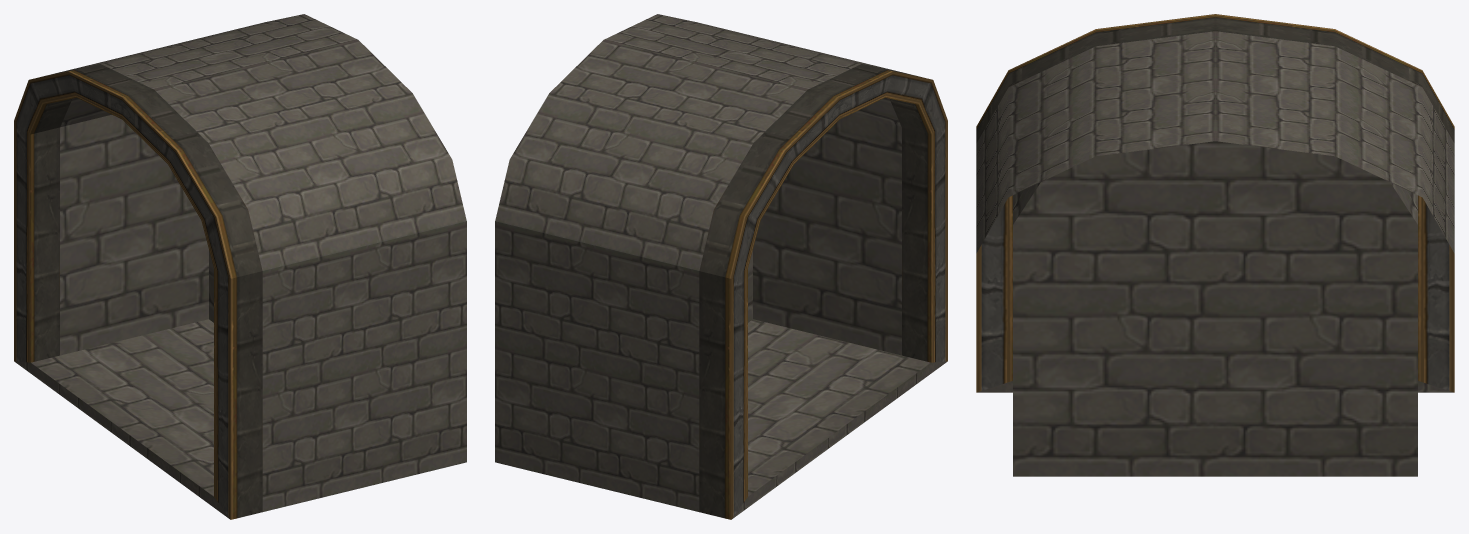
Rendered from Time limit_Other_03.FBX.
3 renders of one model, left to right at view 1: azimuth 30°, elevation 25°; view 2: azimuth 150°, elevation 25°; view 3: azimuth 270°, elevation 25°, orthographic. The views are drawn at different scales.
Parts seen in each view (by area): view 1: Time limit_Other_03; view 2: Time limit_Other_03; view 3: Time limit_Other_03.
Part boxes in pixels (box(x1,y1,x2,y2)): Time limit_Other_03: box(14, 14, 466, 519); Time limit_Other_03: box(495, 14, 947, 519); Time limit_Other_03: box(976, 14, 1454, 476).
Bounding box in the file's own units: 6.72 × 9.33 × 10.68.
